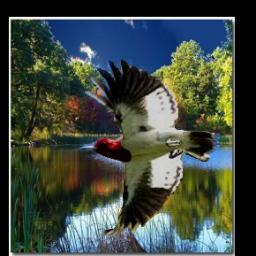Woodpecker: (80, 60, 221, 236)
